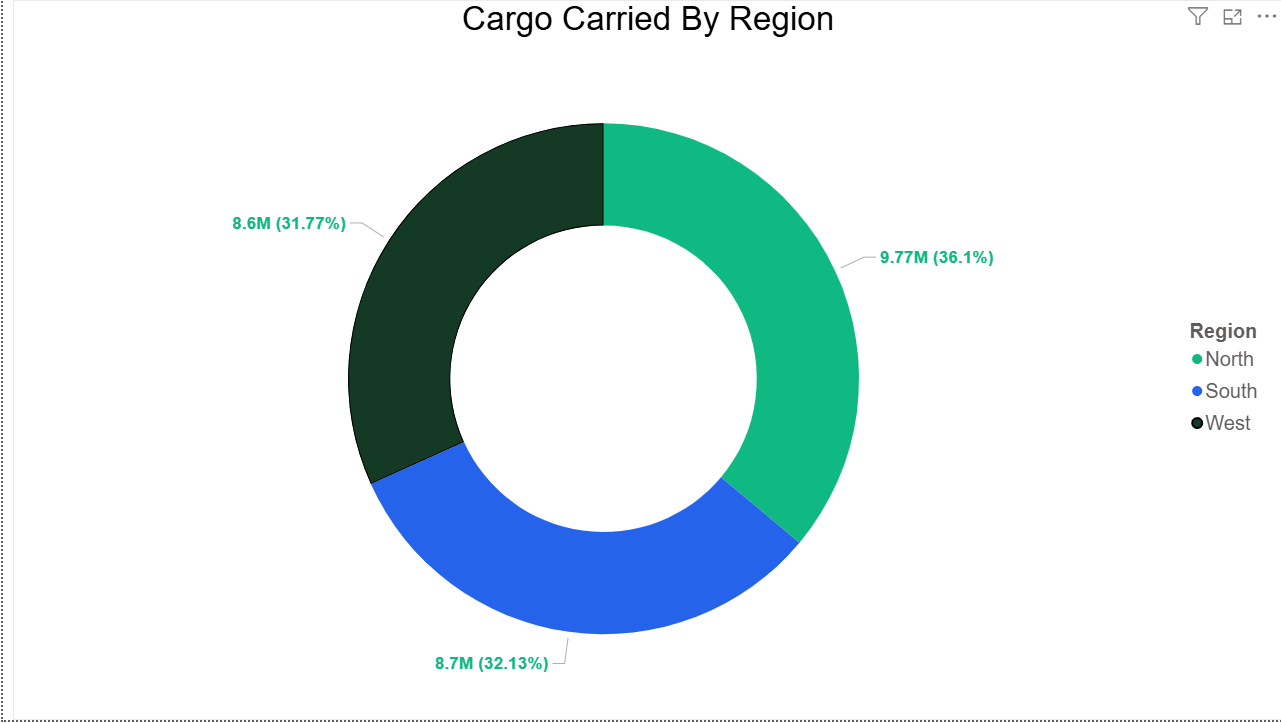

This screenshot's page, from the dashboard's own definition file:
{"tool":"powerbi","page":{"name":"Cargo Carried By Region","canvas":[1280,720],"ordinal":5},"visuals":[{"type":"donutChart","title":"Cargo Carried By Region","fields":{"Category":["Table1.Region"],"Y":["Sum(Table1.Cargo_Tonnes)"]},"box":[9.8,0,1270.5,720.2],"z":1000}]}

Visuals, with their boxes in screenshot pixels (x1, y1, x2, y2), scaled from the page's 1280x720 canvas onto the 1281x723 screenshot:
"Cargo Carried By Region" donutChart: 10, 0, 1280, 722
